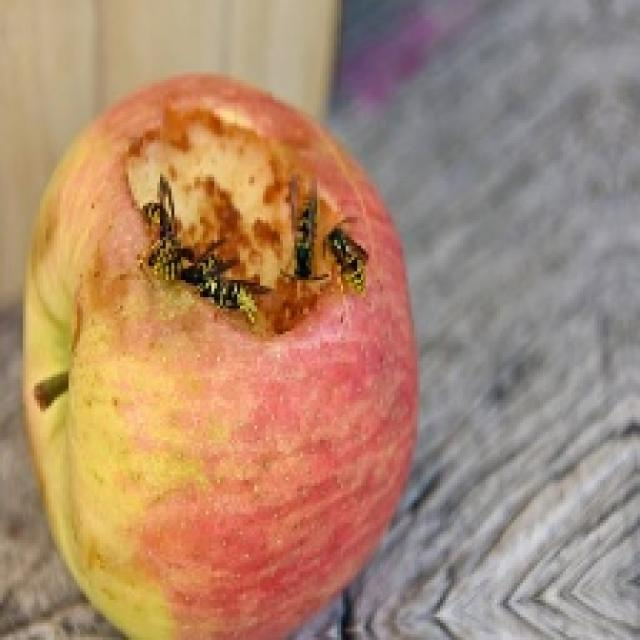rotten_apple: (26, 74, 411, 640)
